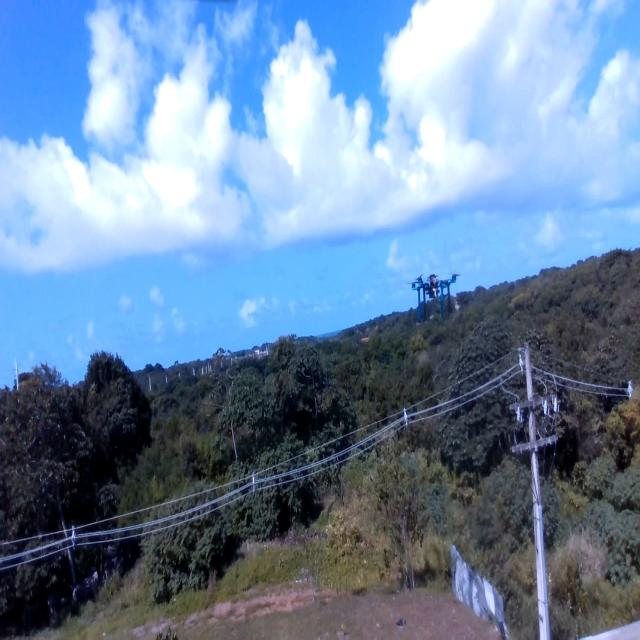-uav-: (400, 256, 463, 323)
